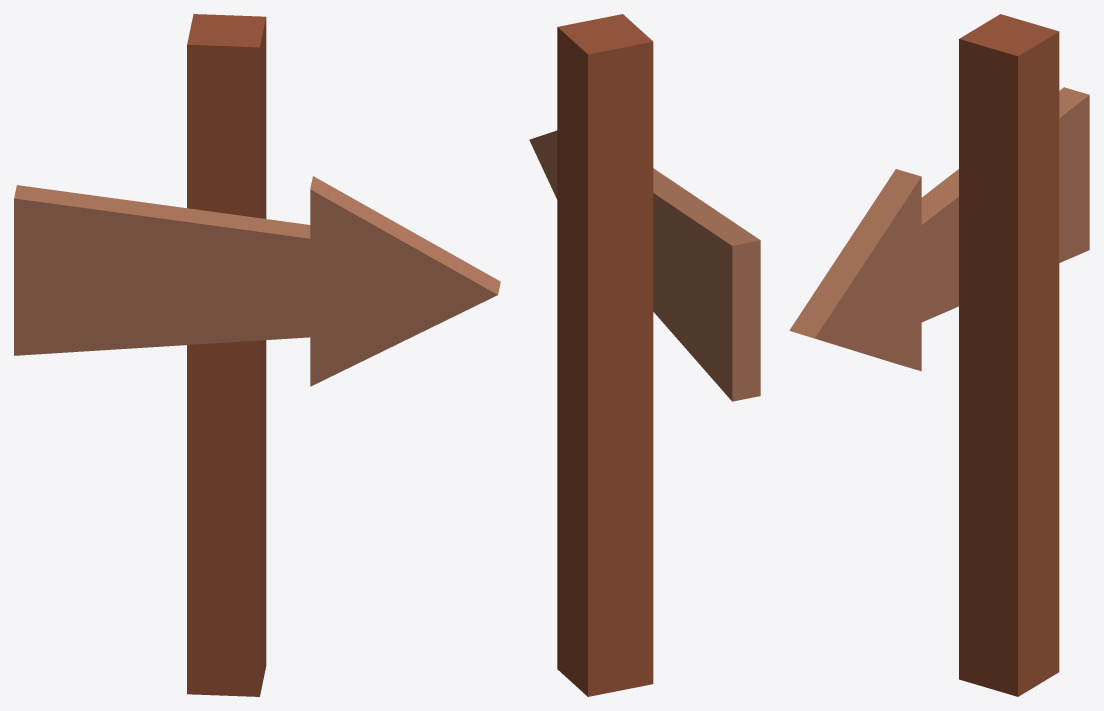
File: Map_summer_sign001.fbx
The picture shows the model from 3 angles, left to right: view 1: azimuth 30°, elevation 25°; view 2: azimuth 150°, elevation 25°; view 3: azimuth 270°, elevation 25°; orthographic projection.
Visible parts, largest first — view 1: sign; view 2: sign; view 3: sign.
Boxes of the visible parts, box(x1,y1,x2,y2) form: sign: box(14, 14, 500, 696); sign: box(529, 14, 760, 696); sign: box(789, 14, 1089, 696).
Bounding box in the file's own units: 9.33 × 16.06 × 6.83.
